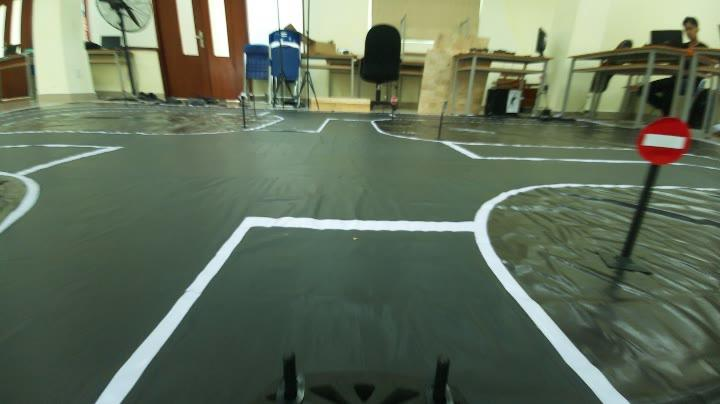no_entry: (635, 114, 696, 175)
